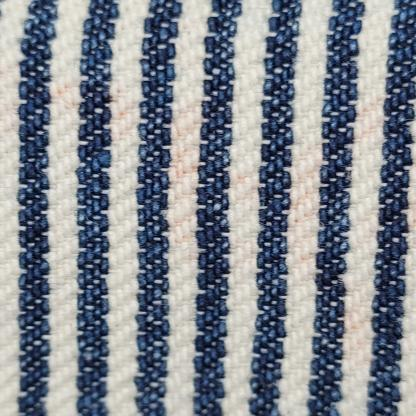spot: (279, 165, 329, 274), (328, 286, 377, 354), (168, 127, 206, 197), (346, 91, 392, 145), (102, 98, 150, 148), (49, 81, 95, 127), (222, 170, 256, 202)
